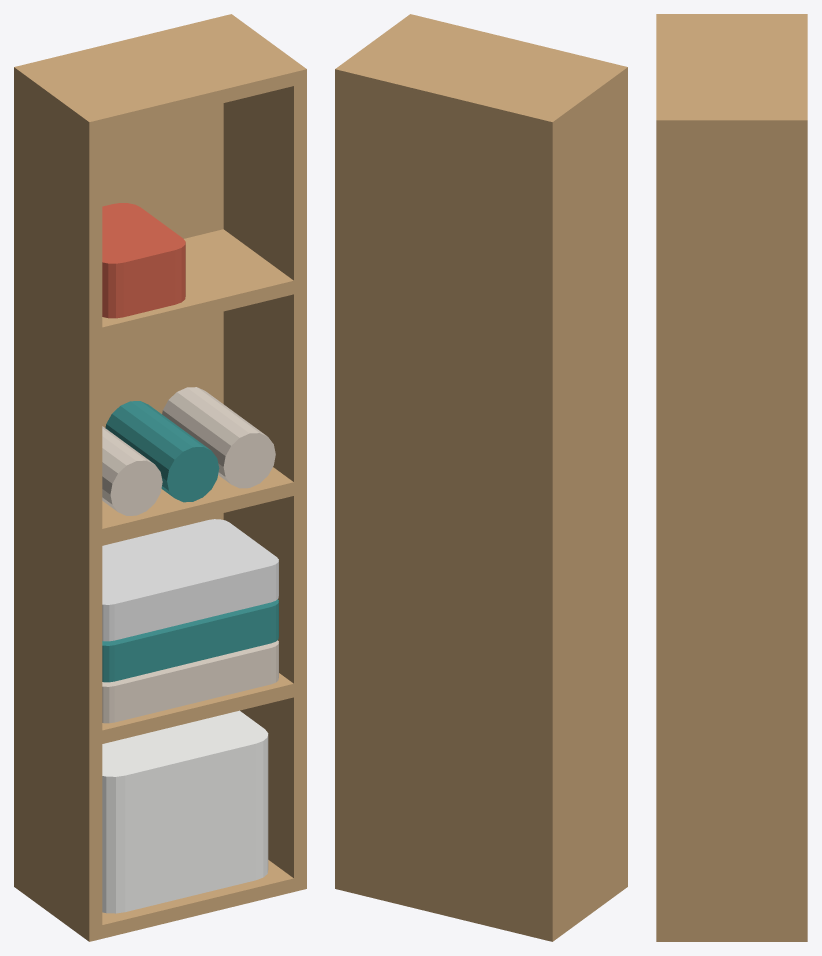
File: towel_set.glb
3 renders of one model, left to right at view 1: azimuth 30°, elevation 25°; view 2: azimuth 150°, elevation 25°; view 3: azimuth 270°, elevation 25°, orthographic.
Visible parts, largest first — view 1: towel_set_Body; view 2: towel_set_Body; view 3: towel_set_Body.
Part boxes in pixels (box(x1,y1,x2,y2)): towel_set_Body: box(14, 14, 306, 941); towel_set_Body: box(335, 14, 627, 941); towel_set_Body: box(656, 14, 807, 941).
Bounding box in the file's own units: 0.5 × 1.8 × 0.3.
